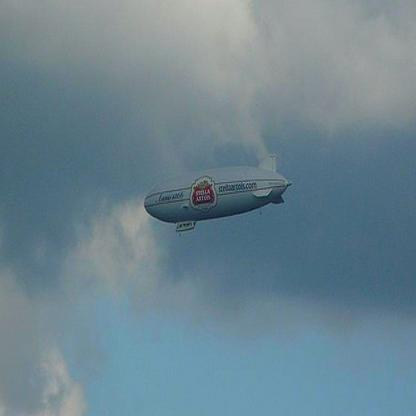Airship: (138, 152, 302, 242)
